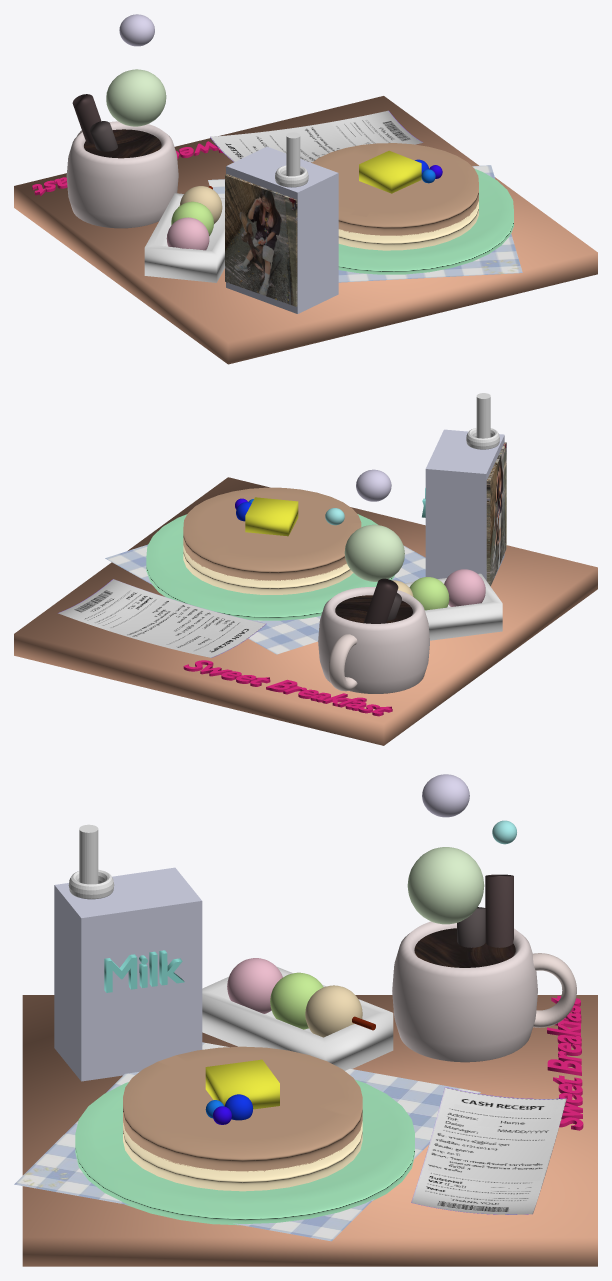
File: Breakfastfinal.glb
3 renders of one model, top to bottom at view 1: azimuth 30°, elevation 25°; view 2: azimuth 150°, elevation 25°; view 3: azimuth 270°, elevation 25°, orthographic. The views are drawn at different scales.
Parts seen in each view (by area): view 1: Plane, Cylinder.004, Torus, Cube, Plane.002, Cylinder, SurfPatch, Cube.002, Sphere, Plane.001, Cylinder.003, Cube.001 (+10 smaller); view 2: Plane, Cylinder.004, Cube, SurfPatch, Torus, Cylinder, Plane.001, Sphere, Cube.002, Cylinder.003, Plane.002, Text.002 (+9 smaller); view 3: Plane, Cube, Cylinder.004, Cylinder, SurfPatch, Torus, Plane.001, Cube.002, Cylinder.003, Sphere, Text.002, Cube.001 (+11 smaller).
Part boxes in pixels (<box>): Plane: <box>14,96,597,364</box>; Cylinder.004: <box>312,143,478,235</box>; Torus: <box>66,121,178,228</box>; Cube: <box>226,146,338,313</box>; Plane.002: <box>225,174,297,306</box>; Cylinder: <box>338,169,513,274</box>; SurfPatch: <box>210,110,423,162</box>; Cube.002: <box>144,193,224,282</box>; Sphere: <box>106,69,166,126</box>; Plane.001: <box>208,165,522,282</box>; Cylinder.003: <box>338,201,478,250</box>; Cube.001: <box>359,150,421,193</box>; Plane: <box>14,477,597,745</box>; Cylinder.004: <box>183,487,361,580</box>; Cube: <box>425,429,504,580</box>; SurfPatch: <box>58,579,266,657</box>; Torus: <box>318,587,429,693</box>; Cylinder: <box>146,514,395,620</box>; Plane.001: <box>105,544,425,654</box>; Sphere: <box>344,524,404,581</box>; Cube.002: <box>405,573,502,640</box>; Cylinder.003: <box>183,545,353,594</box>; Plane.002: <box>486,442,506,586</box>; Text.002: <box>183,660,392,716</box>; Plane: <box>22,995,597,1266</box>; Cube: <box>54,867,202,1081</box>; Cylinder.004: <box>123,1046,362,1171</box>; Cylinder: <box>75,1079,414,1225</box>; SurfPatch: <box>411,1087,566,1214</box>; Torus: <box>392,921,537,1062</box>; Plane.001: <box>14,1042,480,1241</box>; Cube.002: <box>202,966,393,1070</box>; Cylinder.003: <box>123,1121,362,1191</box>; Sphere: <box>407,847,484,924</box>; Text.002: <box>547,995,583,1130</box>; Cube.001: <box>205,1059,279,1109</box>.
Bounding box in the file's own units: 12.24 × 6.7 × 12.18.
Materials: 26 (4 with a texture image).
